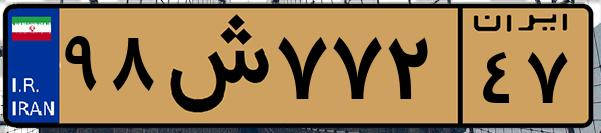2: (385, 28, 445, 110)
4: (475, 38, 525, 113)
7: (270, 28, 330, 110), (330, 28, 385, 110), (525, 38, 570, 115)
8: (110, 28, 158, 98)
9: (57, 26, 110, 100)
ش: (158, 12, 270, 120)
